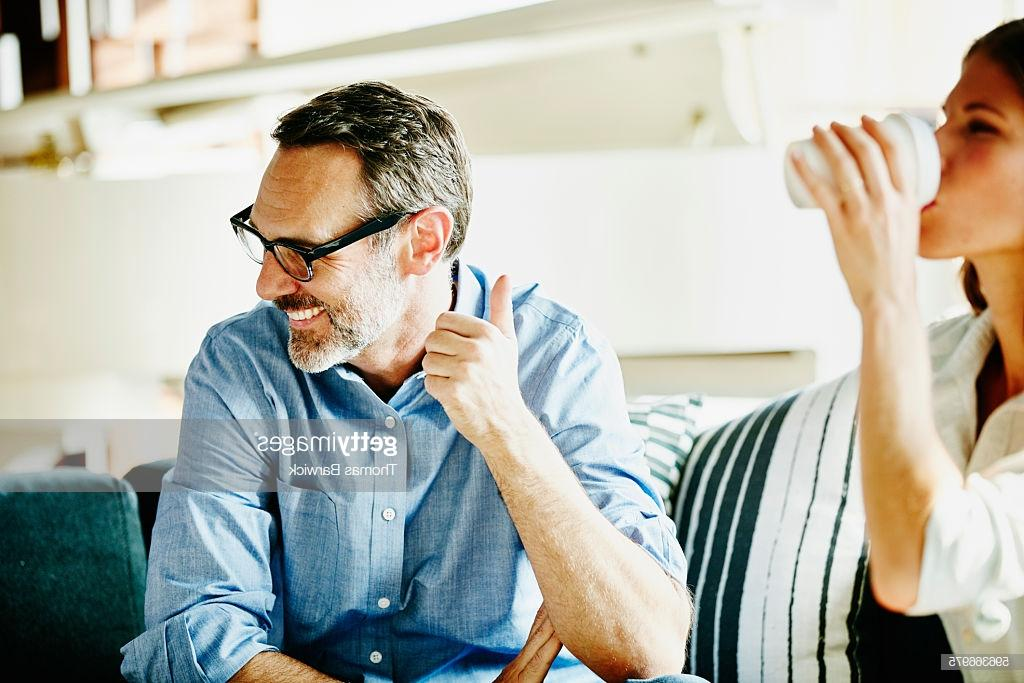thumbsup: (423, 274, 516, 396)
